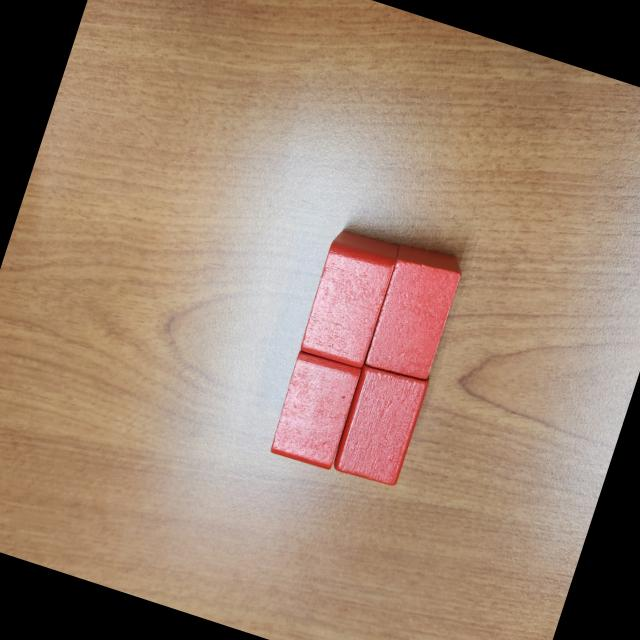red: (357, 237, 467, 386), (295, 225, 401, 372), (330, 354, 432, 491), (267, 348, 365, 473)
